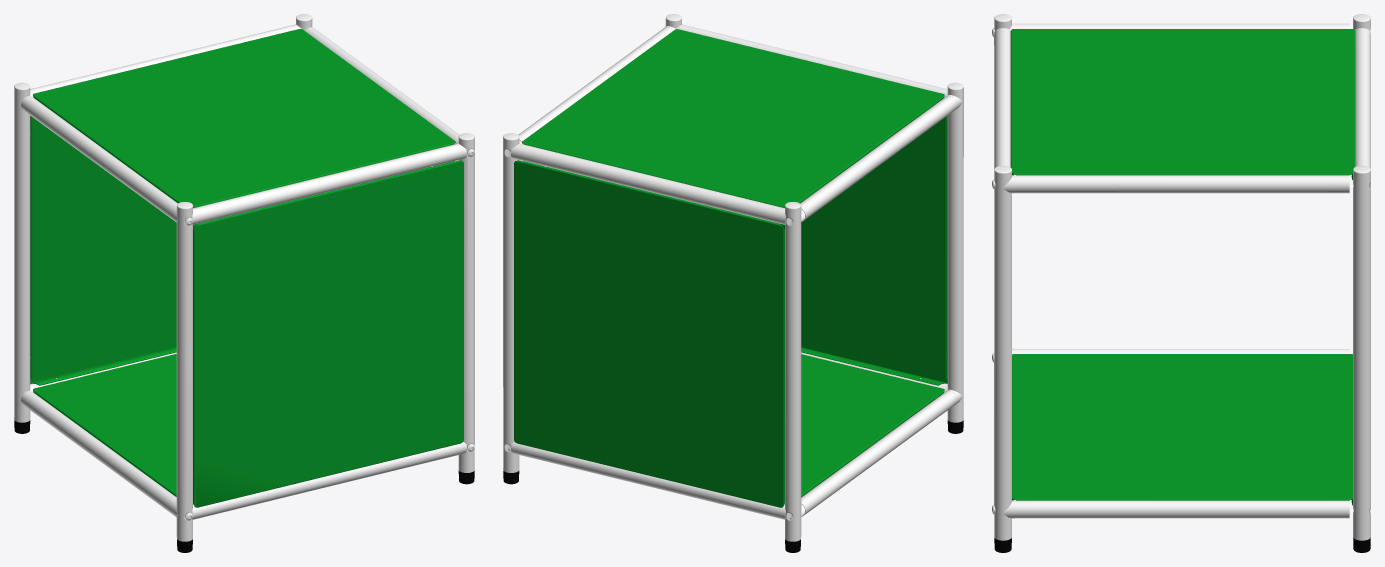
File: 40x40x40-2-7-green_optimized_optimized.glb
The picture shows the model from 3 angles, left to right: view 1: azimuth 30°, elevation 25°; view 2: azimuth 150°, elevation 25°; view 3: azimuth 270°, elevation 25°; orthographic projection. The views are drawn at different scales.
Parts seen in each view (by area): view 1: 直角鐵板-40x40-5 - 零件, 反-鐵管-40-354..4-1 - 零件, 圓形腳+調整器-1 - 零件; view 2: 直角鐵板-40x40-5 - 零件, 反-鐵管-40-354..4-1 - 零件, 圓形腳+調整器-1 - 零件; view 3: 直角鐵板-40x40-5 - 零件, 反-鐵管-40-354..4-1 - 零件.
Boxes of the visible parts, left/top/right/bottom form: 直角鐵板-40x40-5 - 零件: left=30, top=28, right=463, bottom=507; 反-鐵管-40-354..4-1 - 零件: left=14, top=14, right=474, bottom=541; 圓形腳+調整器-1 - 零件: left=14, top=420, right=474, bottom=552; 直角鐵板-40x40-5 - 零件: left=514, top=29, right=947, bottom=507; 反-鐵管-40-354..4-1 - 零件: left=503, top=14, right=963, bottom=541; 圓形腳+調整器-1 - 零件: left=503, top=420, right=963, bottom=552; 直角鐵板-40x40-5 - 零件: left=1010, top=29, right=1355, bottom=505; 反-鐵管-40-354..4-1 - 零件: left=992, top=14, right=1370, bottom=540.
Size of the model in its own units: 0.3992 by 0.4453 by 0.4013.
